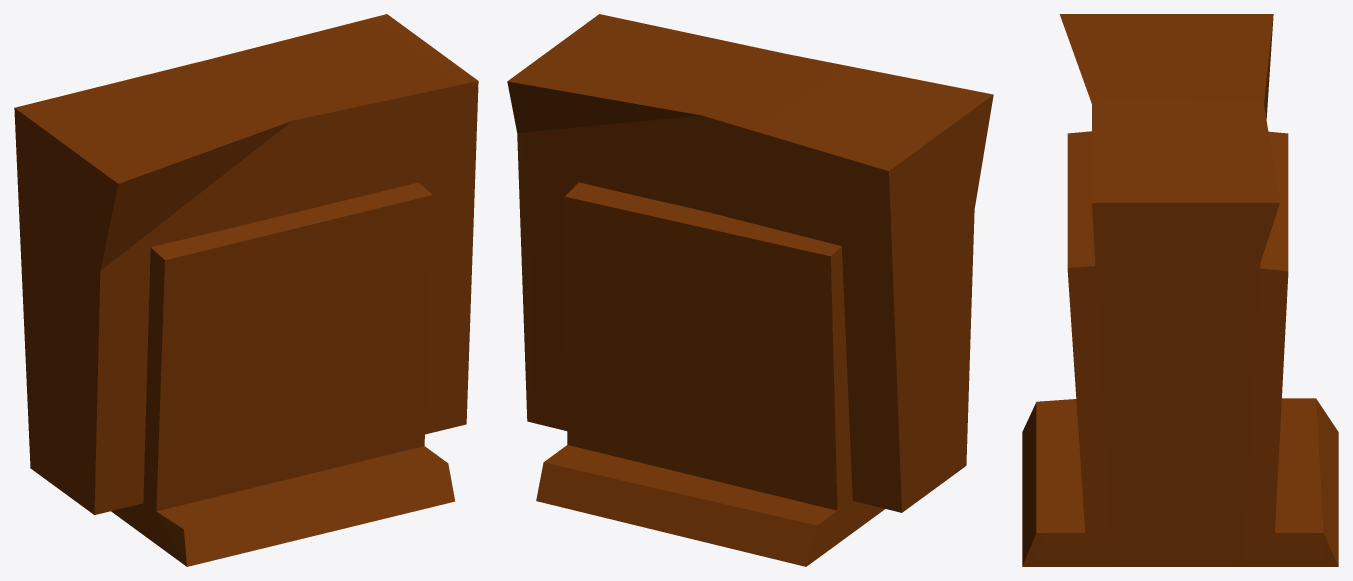
File: SM_Prop_Cafe_Napkin_Holder_02.obj
3 views of the same model, side by side, from view 1: azimuth 30°, elevation 25°; view 2: azimuth 150°, elevation 25°; view 3: azimuth 270°, elevation 25° (orthographic). The views are drawn at different scales.
Parts seen in each view (by area): view 1: SM_Prop_Cafe_Napkin_Holder_02_0; view 2: SM_Prop_Cafe_Napkin_Holder_02_0; view 3: SM_Prop_Cafe_Napkin_Holder_02_0.
Part boxes in pixels (x1,y1,x2,y2): SM_Prop_Cafe_Napkin_Holder_02_0: [14, 14, 478, 566]; SM_Prop_Cafe_Napkin_Holder_02_0: [507, 14, 993, 566]; SM_Prop_Cafe_Napkin_Holder_02_0: [1022, 14, 1338, 566].
Bounding box in the file's own units: 0.2008 × 0.1979 × 0.1424.
